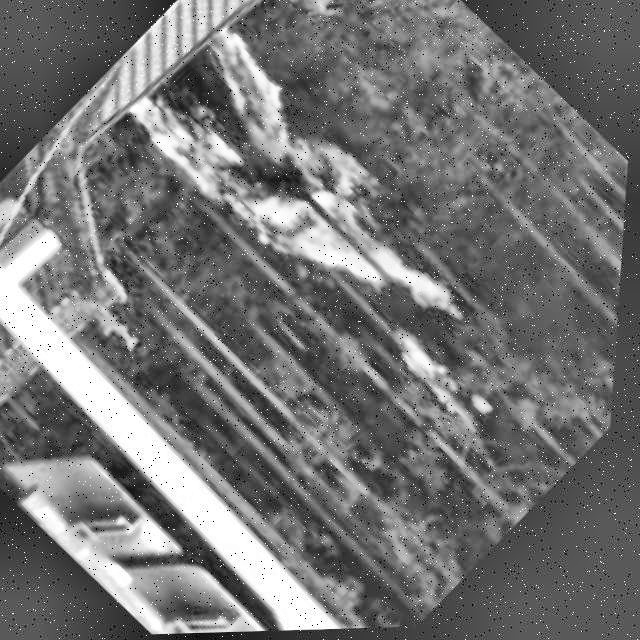Fire: (101, 6, 498, 381), (379, 330, 505, 449)
